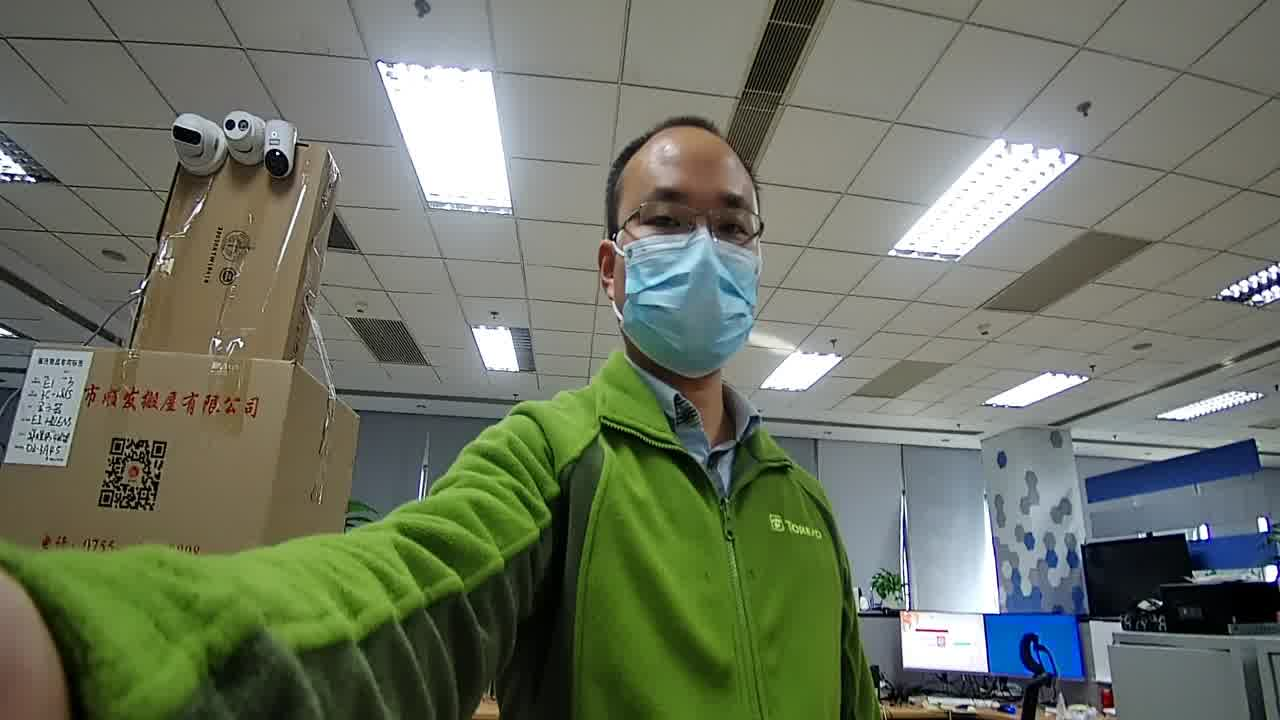face: (618, 142, 756, 382)
mask: (620, 234, 757, 378)
person: (440, 110, 839, 522)
